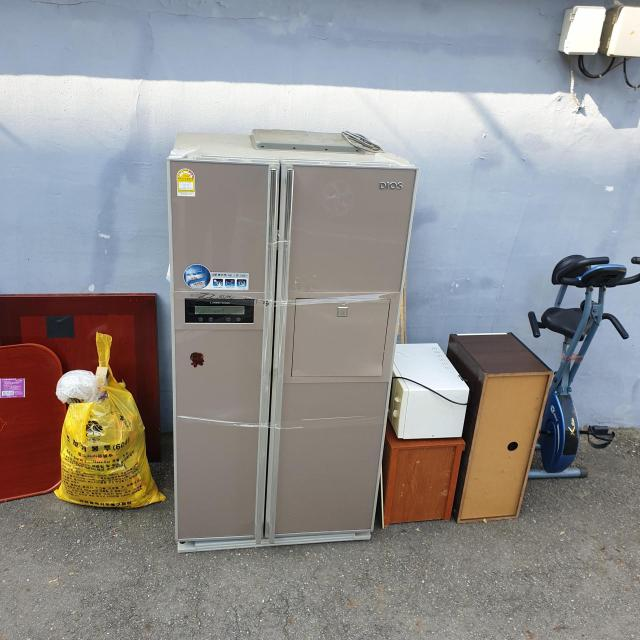refrigerator: (167, 125, 419, 555)
